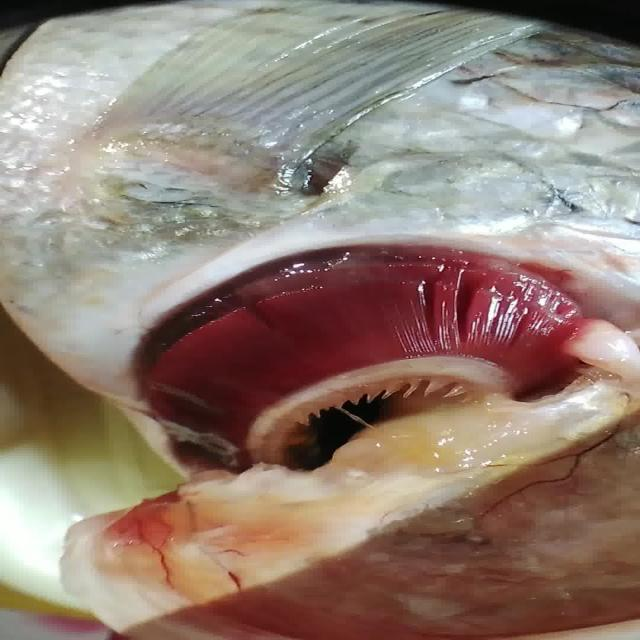Fresh: (99, 236, 617, 440)
